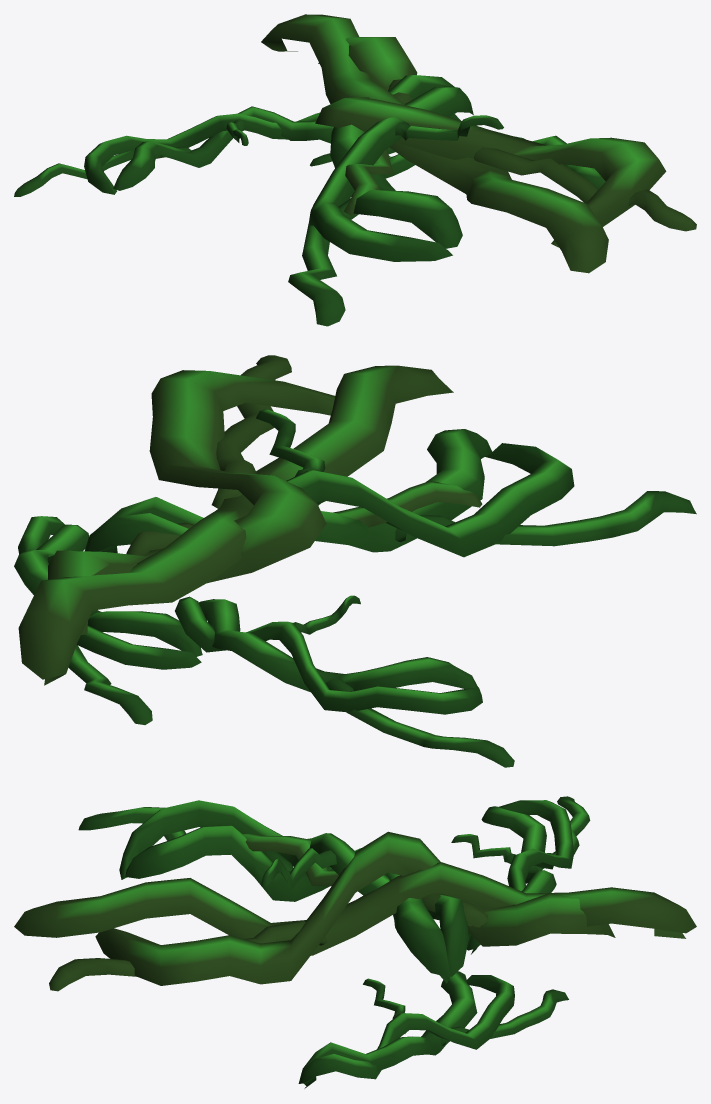
File: vine5.fbx
3 renders of one model, top to bottom at view 1: azimuth 30°, elevation 25°; view 2: azimuth 150°, elevation 25°; view 3: azimuth 270°, elevation 25°, orthographic. The views are drawn at different scales.
Visible parts, largest first — view 1: pCube164; view 2: pCube164; view 3: pCube164.
Part boxes in pixels (<box>): pCube164: <box>14,14,696,326</box>; pCube164: <box>14,355,696,767</box>; pCube164: <box>14,796,696,1088</box>.
Size of the model in its own units: 127 by 34.69 by 142.
